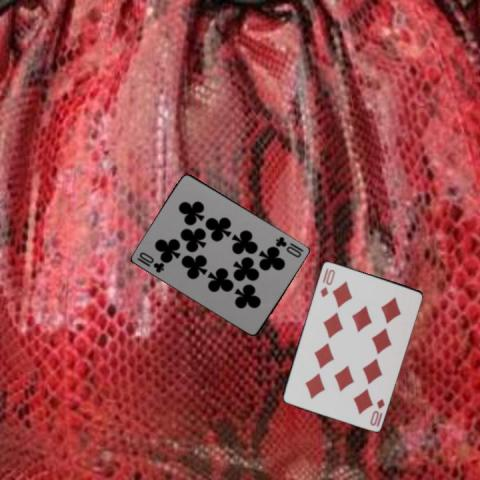10c: (273, 233, 305, 259), (135, 249, 166, 274)
10d: (317, 266, 336, 299), (367, 395, 386, 427)
